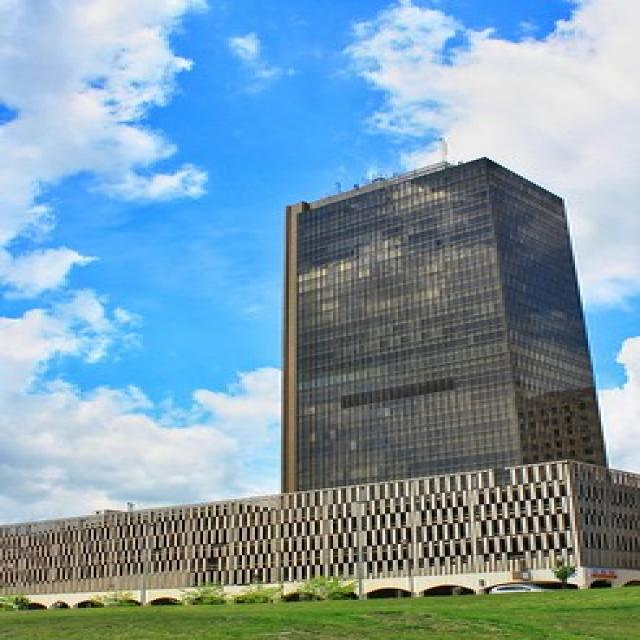Normal_building: (269, 153, 623, 556)
